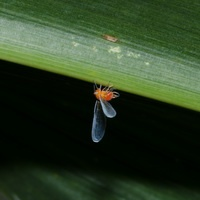insect: (91, 84, 119, 142)
